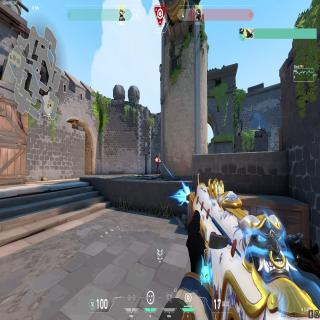ENEMY-BODY: (156, 155, 160, 175)
ENEMY-HEAD: (157, 156, 159, 160)
